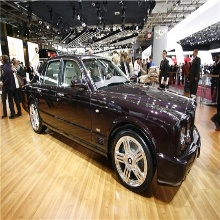no damage: (20, 54, 202, 199)
